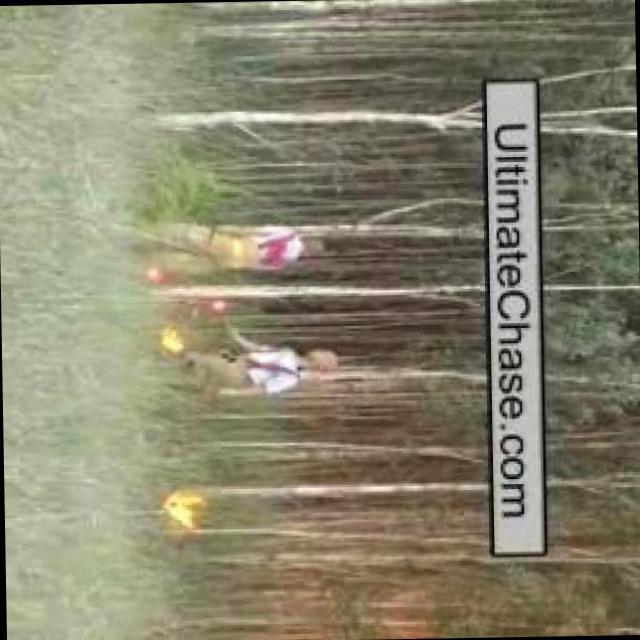Fire: (158, 491, 209, 534), (152, 325, 180, 356), (145, 266, 166, 286), (209, 302, 229, 319)
